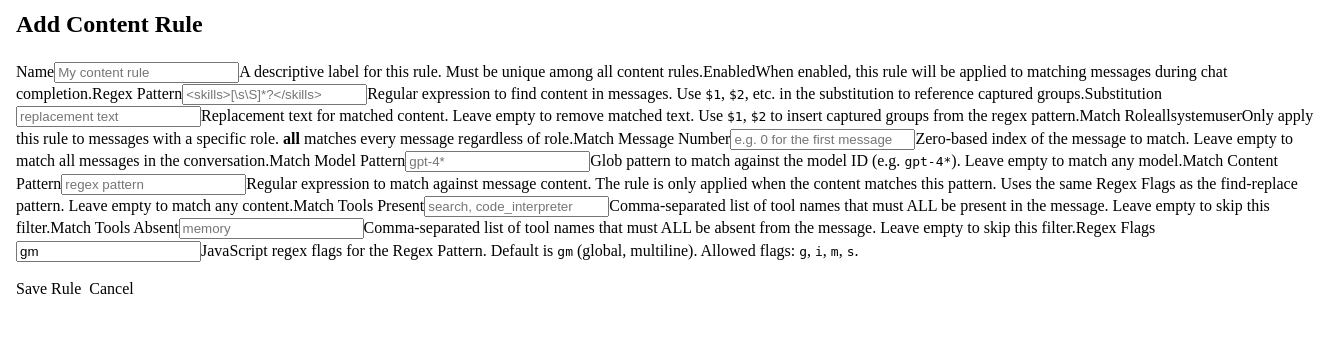
Test case: ContentRuleFormPage › shows validation error when name is empty on save
Click the button "Save Rule". click: click(49, 289)
box: [16,278,81,300]
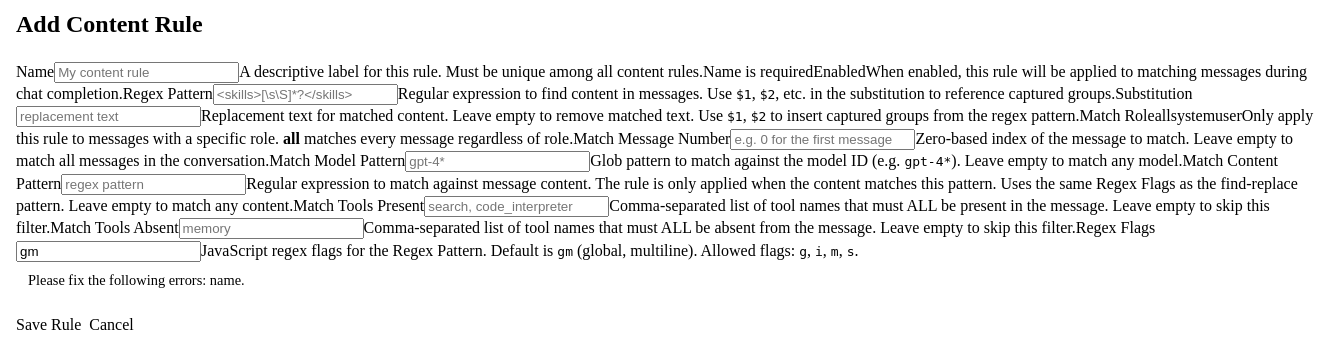
Now the text "Name is required" is shown, box [703,63,813,80]
